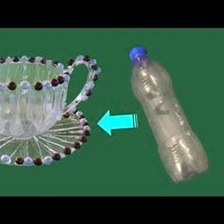bottle: (122, 36, 214, 187)
